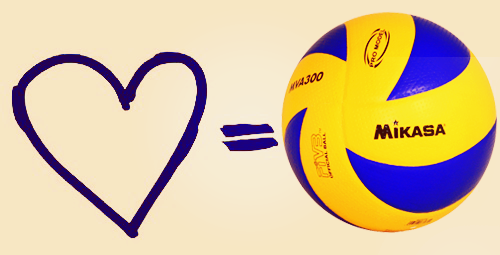ball: (281, 12, 497, 232)
